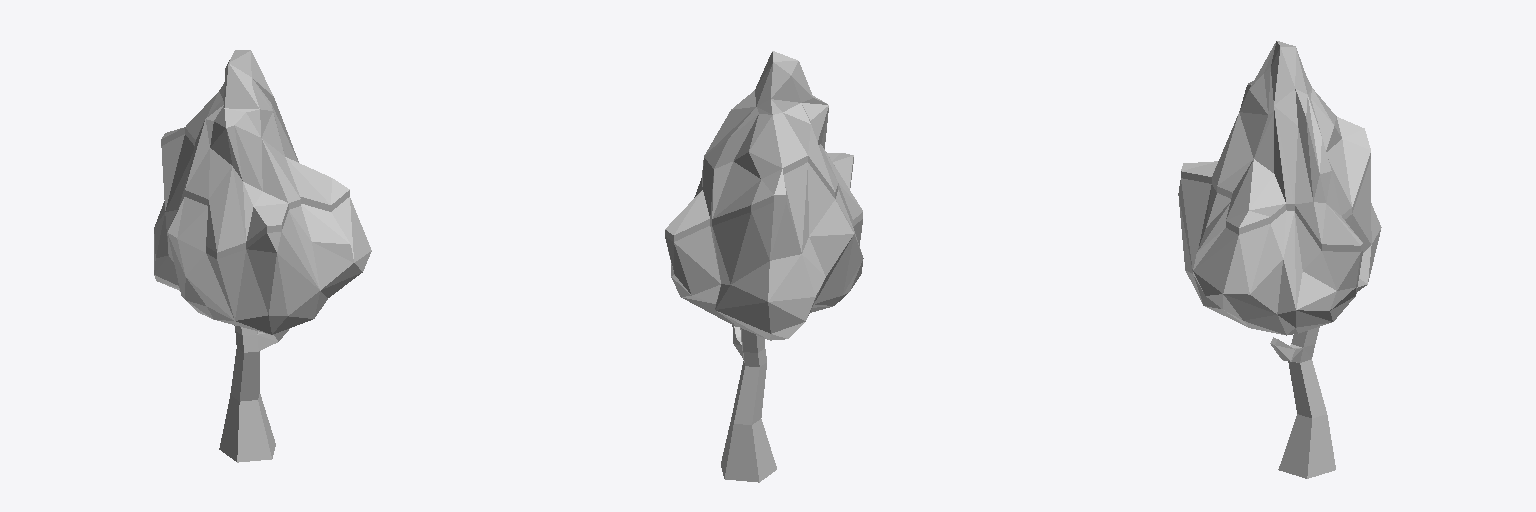
File: tree02snow.obj
3 views of the same model, side by side, from view 1: azimuth 30°, elevation 25°; view 2: azimuth 150°, elevation 25°; view 3: azimuth 270°, elevation 25° (orthographic).
Visible parts, largest first — view 1: SM_Env_Tree_02_Snow_Mesh.003; view 2: SM_Env_Tree_02_Snow_Mesh.003; view 3: SM_Env_Tree_02_Snow_Mesh.003.
Boxes of the visible parts, box(x1,y1,x2,y2) form: SM_Env_Tree_02_Snow_Mesh.003: box(154, 50, 371, 462); SM_Env_Tree_02_Snow_Mesh.003: box(665, 51, 863, 482); SM_Env_Tree_02_Snow_Mesh.003: box(1178, 41, 1381, 478).
Bounding box in the file's own units: 1.9 × 4.28 × 1.91.